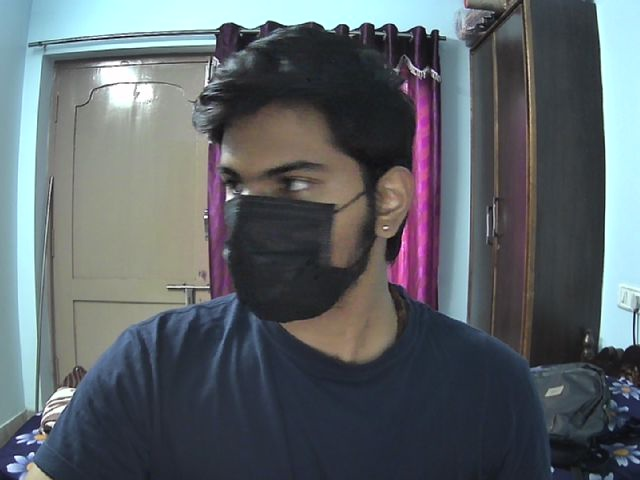Mask: (226, 199, 380, 322)
